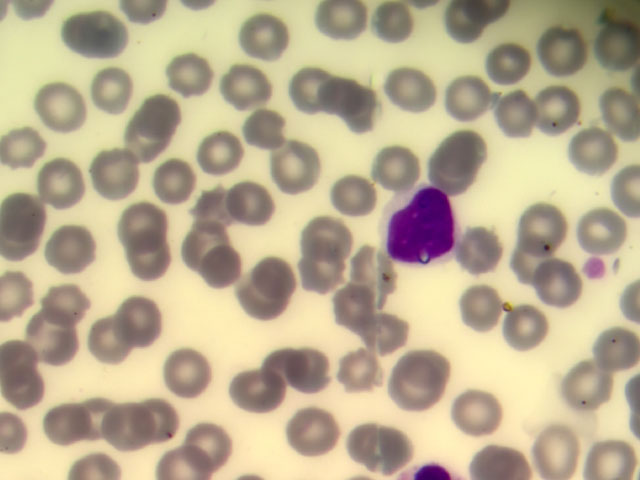Platelets: (583, 254, 608, 284)
RBC: (584, 427, 635, 480), (537, 427, 588, 480), (470, 427, 521, 480), (158, 427, 209, 480), (63, 10, 114, 62), (36, 81, 87, 133), (4, 126, 55, 178), (38, 159, 89, 211), (4, 186, 55, 238), (44, 219, 95, 271), (42, 274, 93, 326), (27, 315, 78, 367), (27, 314, 78, 366), (7, 369, 58, 421), (44, 399, 95, 451), (64, 387, 115, 439), (91, 402, 142, 454), (138, 397, 189, 449), (164, 345, 215, 397), (82, 314, 133, 366), (100, 298, 151, 350), (121, 243, 172, 295), (132, 193, 183, 245), (144, 160, 195, 212), (94, 142, 145, 194), (115, 123, 166, 175), (128, 92, 179, 144), (97, 57, 148, 109), (171, 48, 222, 100), (223, 60, 274, 112), (233, 11, 284, 63), (289, 62, 340, 114), (310, 66, 361, 118), (336, 80, 387, 132), (239, 105, 290, 157), (197, 127, 248, 179), (231, 172, 282, 224), (204, 177, 255, 229), (179, 201, 230, 253), (197, 235, 248, 287), (232, 271, 283, 323), (255, 256, 306, 308), (290, 253, 341, 305), (309, 215, 360, 267), (329, 171, 380, 223), (274, 145, 325, 197), (365, 138, 416, 190), (421, 145, 472, 197), (447, 122, 498, 174), (444, 64, 495, 116), (399, 62, 450, 114), (369, 2, 420, 54), (310, 2, 361, 54), (482, 42, 533, 94), (546, 27, 597, 79), (539, 84, 590, 136), (495, 90, 546, 142), (562, 125, 613, 177), (583, 92, 634, 144), (583, 201, 634, 253), (522, 193, 573, 245), (514, 227, 565, 279), (540, 263, 591, 315), (453, 281, 504, 333), (457, 224, 508, 276), (505, 297, 556, 349), (570, 366, 621, 418), (582, 334, 633, 386), (452, 387, 503, 439), (389, 367, 440, 419), (408, 346, 459, 398), (364, 314, 415, 366), (320, 284, 371, 336), (344, 244, 395, 296), (339, 342, 390, 394), (370, 424, 421, 476), (292, 411, 343, 463), (295, 344, 346, 396), (258, 342, 309, 394), (237, 362, 288, 414), (191, 417, 242, 469), (336, 424, 387, 476), (1, 327, 50, 379)
WBC: (384, 185, 464, 273)
